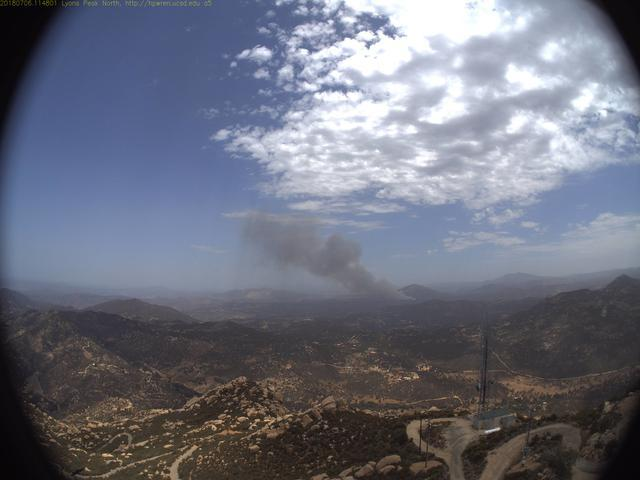smoke: (239, 196, 422, 313)
